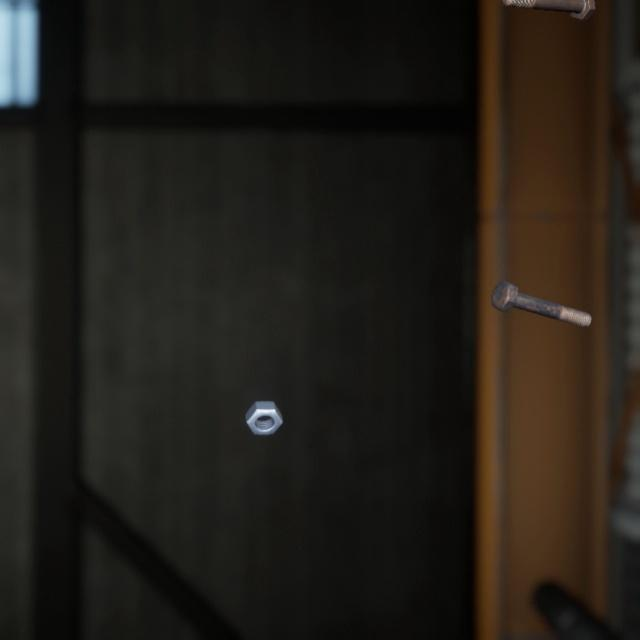bolt: (487, 258, 596, 314)
nut: (240, 376, 287, 419)
